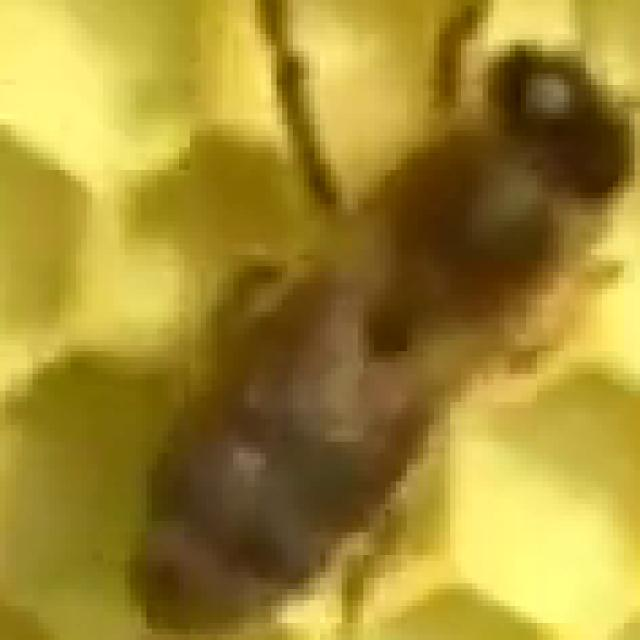honeybee: (56, 59, 618, 587)
